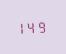four: (28, 20, 36, 33)
nine: (37, 19, 45, 33)
one: (18, 20, 26, 34)
